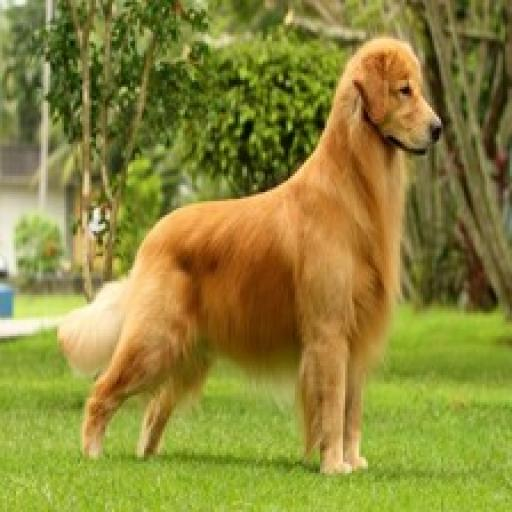dog: (63, 32, 448, 470)
